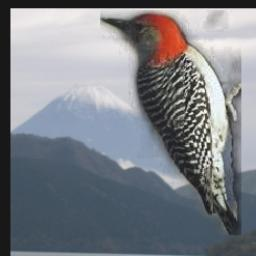Woodpecker: (101, 11, 242, 236)
